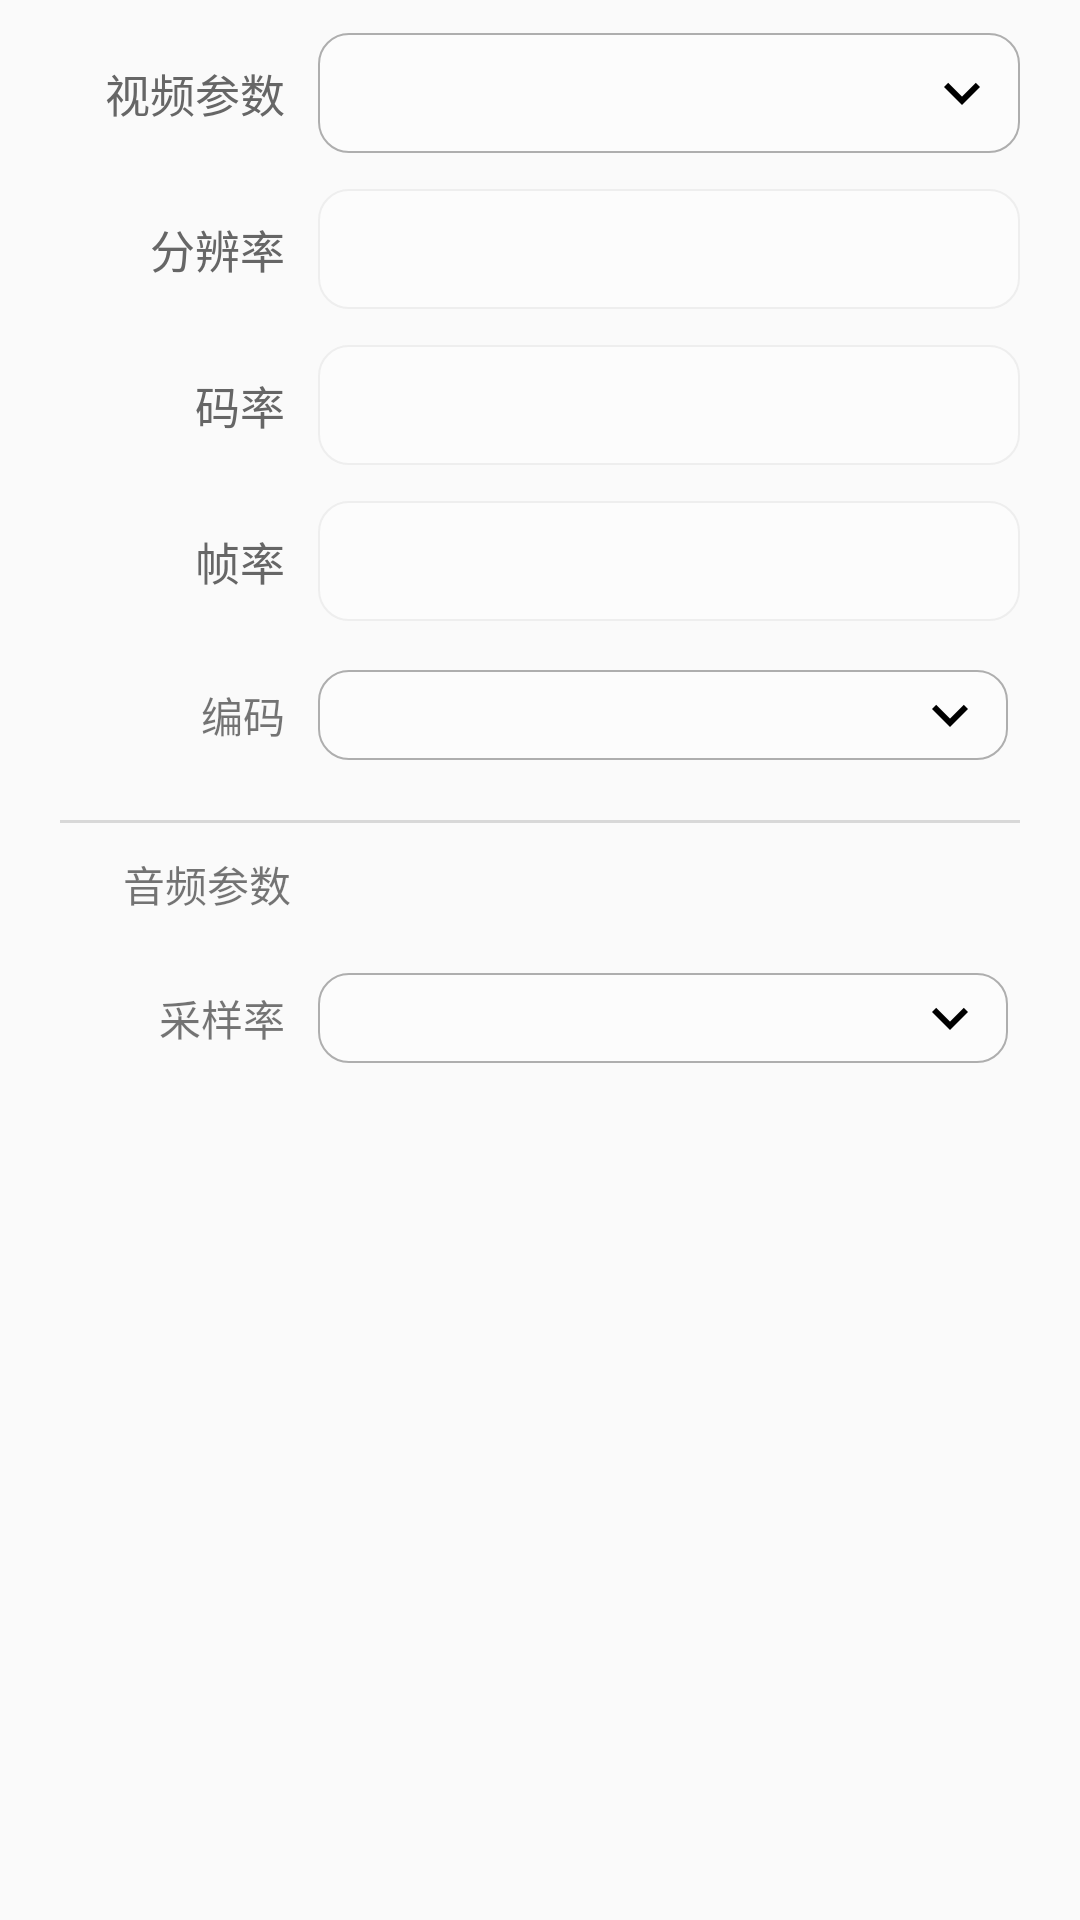

Icon bounding boxes for this 1080×1920 phone screenshot, format (x1, y1, x2, y2):
arrow down: (944, 83, 980, 105), (932, 705, 968, 727), (932, 1008, 968, 1030)
